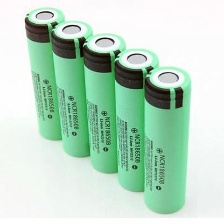battery: (139, 63, 194, 216), (112, 46, 161, 196), (80, 32, 127, 175), (22, 5, 70, 142), (49, 17, 95, 159)
